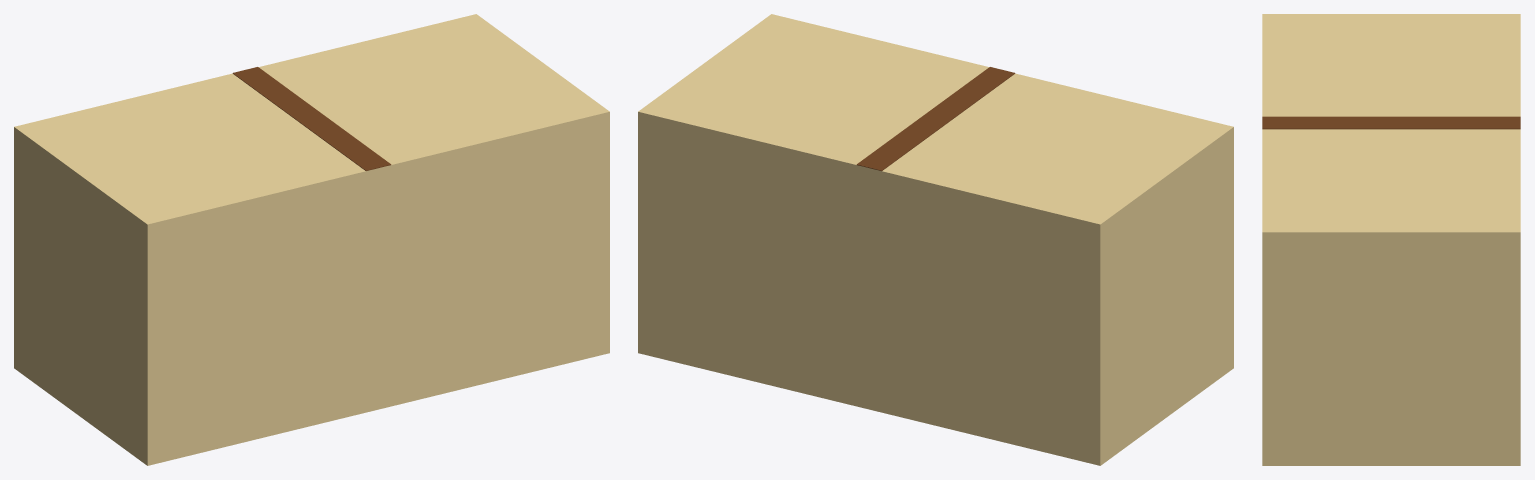
The model's file is hay_bale_square.fbx.
3 renders of one model, left to right at view 1: azimuth 30°, elevation 25°; view 2: azimuth 150°, elevation 25°; view 3: azimuth 270°, elevation 25°, orthographic. The views are drawn at different scales.
Parts seen in each view (by area): view 1: hay_bale_square; view 2: hay_bale_square; view 3: hay_bale_square.
Part boxes in pixels (x1,y1,x2,y2): hay_bale_square: (14,14,609,465); hay_bale_square: (638,14,1233,465); hay_bale_square: (1262,14,1520,465).
Bounding box in the file's own units: 0.9 × 0.45 × 0.45.
